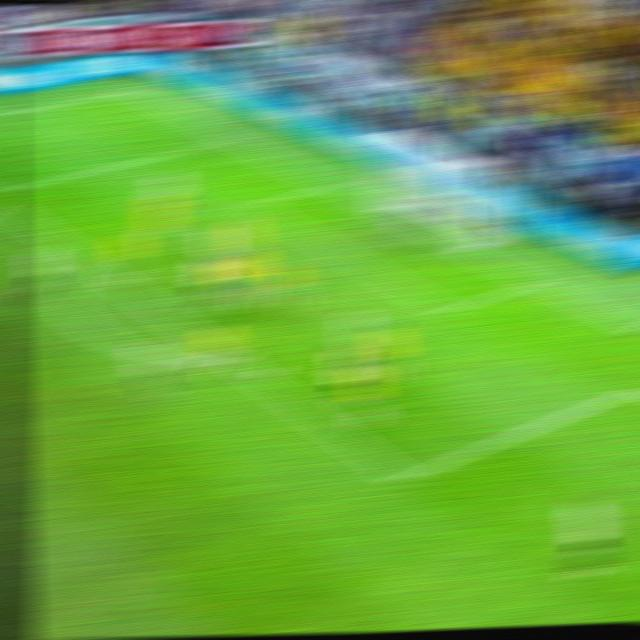bigarea_bottom_inner: (383, 463, 424, 495)
bigarea_top_outter: (216, 132, 249, 146)
bottom_arc_area_intersection: (217, 350, 248, 372)
corner: (117, 84, 144, 96)
smallarea_bottom_inner: (431, 297, 468, 326)
smallarea_bottom_outter: (519, 272, 550, 291)
smallarea_top_inner: (236, 195, 269, 219)
smallarea_top_outter: (312, 175, 343, 194)
top_arc_area_intersection: (75, 252, 106, 273)
